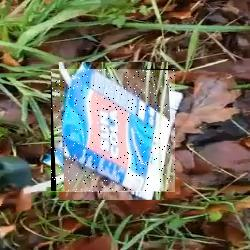restaffald: (51, 70, 175, 194)
